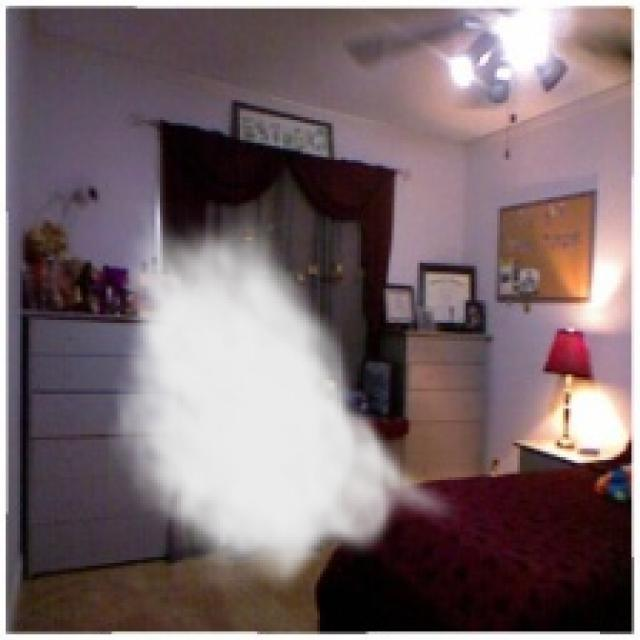Smoke: (106, 200, 463, 600)
